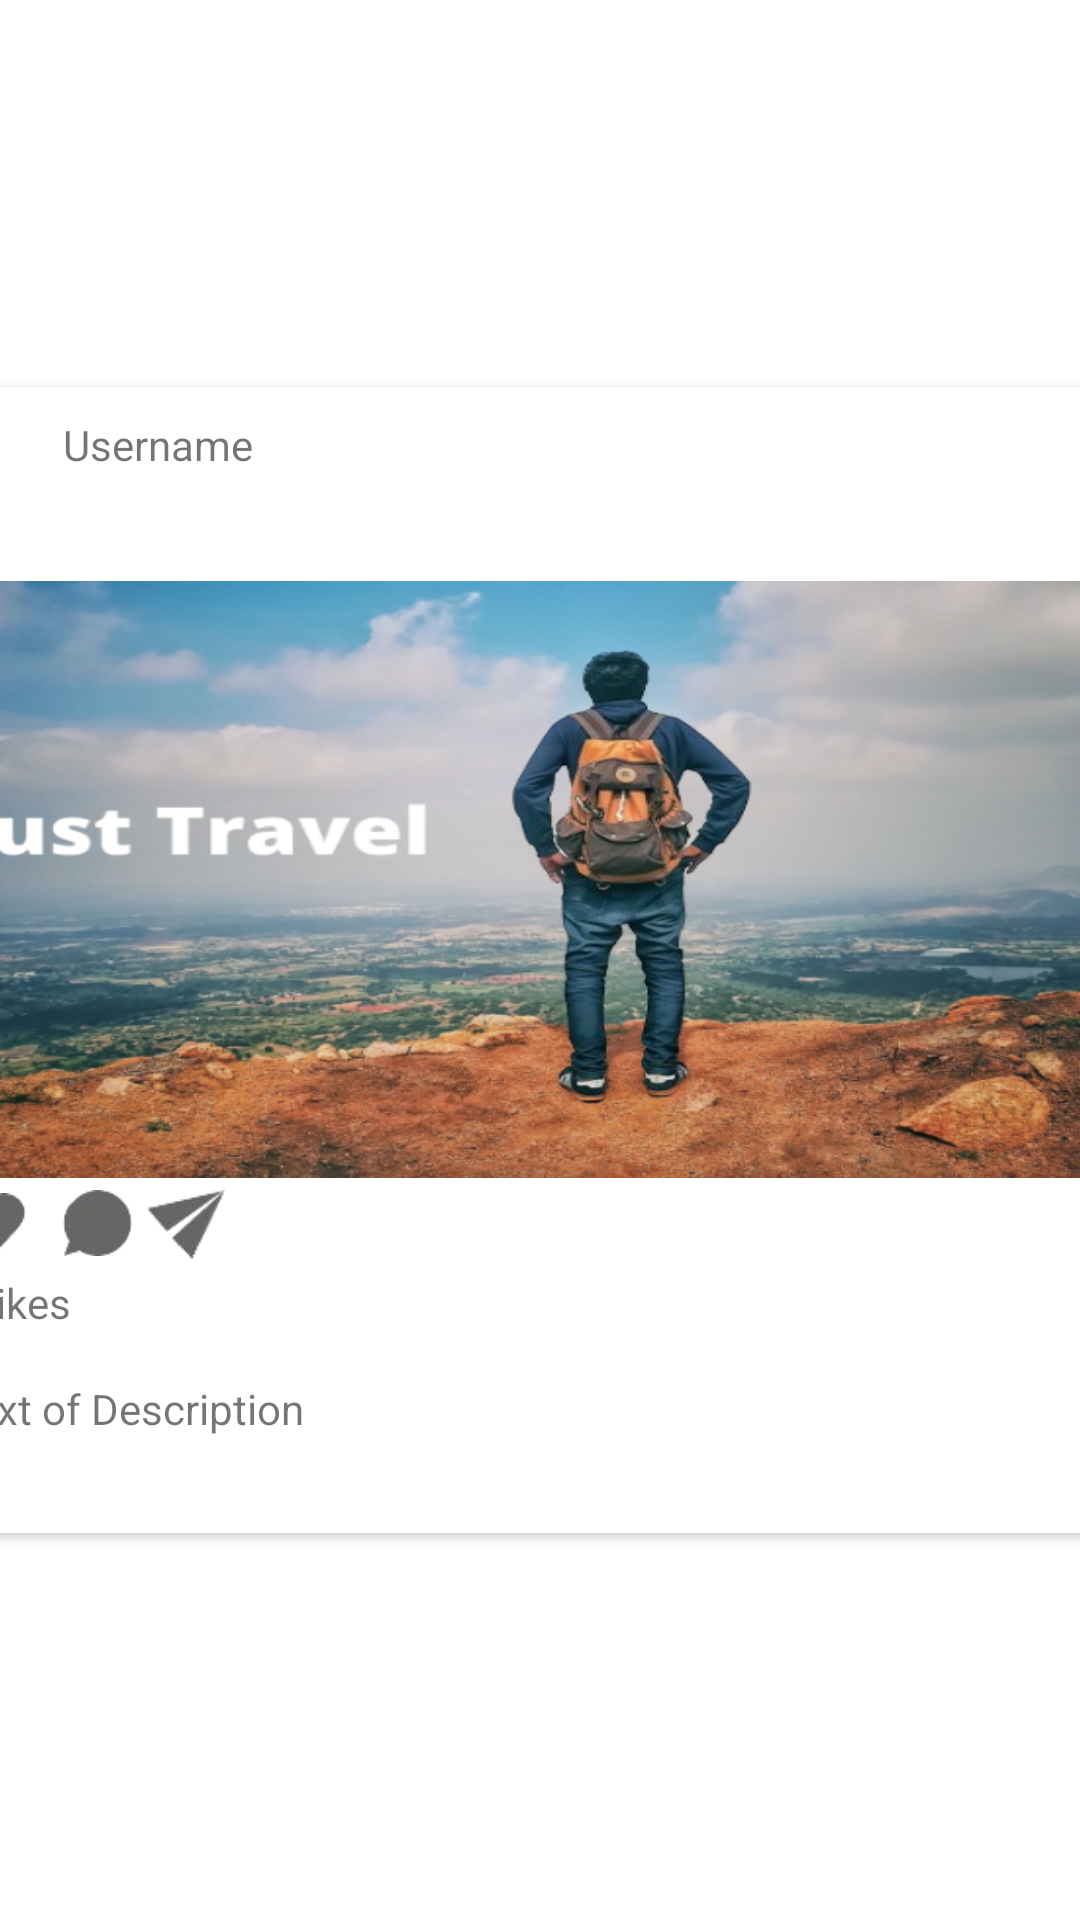

Icons on this 1080w x 1920h Android screen, each with its box as BBox(x1, y1, x2, y2):
comment: BBox(64, 1190, 132, 1256)
paperplane: BBox(147, 1190, 225, 1259)
